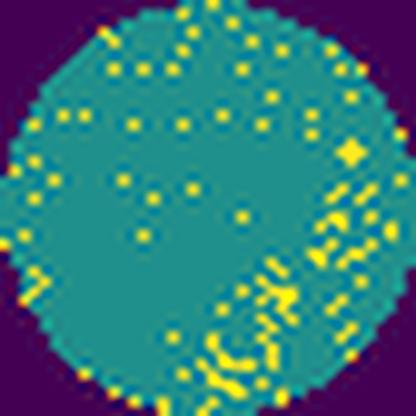Loc: (251, 274, 299, 326)
